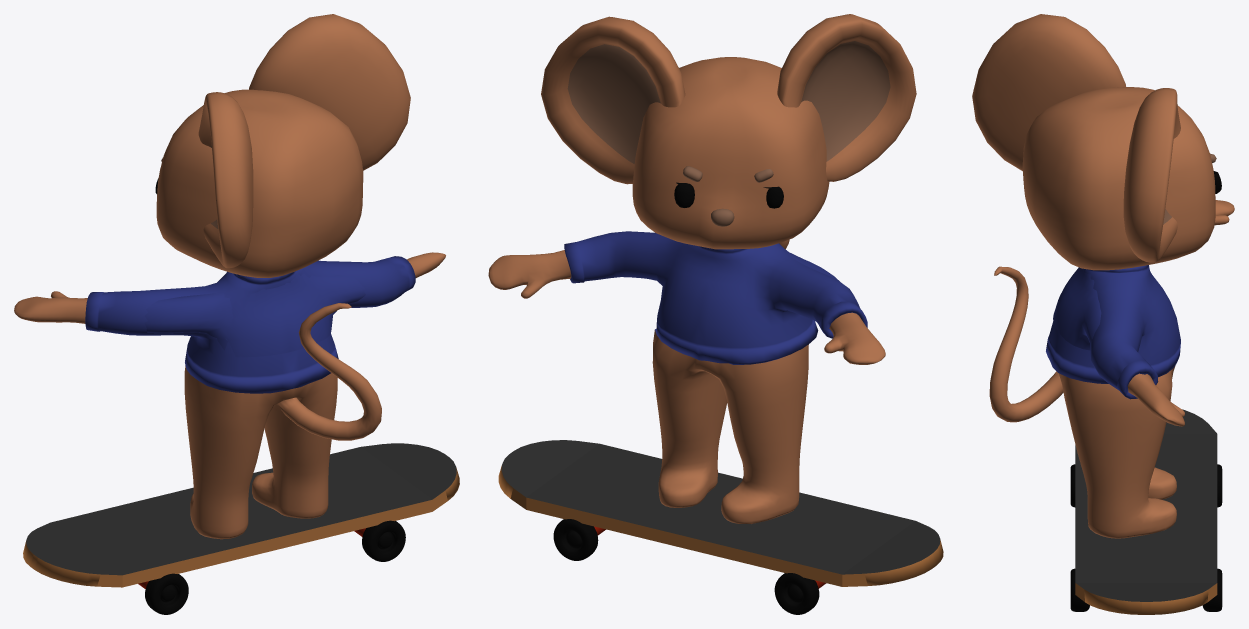
The model's file is snackmouse.glb.
3 views of the same model, side by side, from view 1: azimuth 30°, elevation 25°; view 2: azimuth 150°, elevation 25°; view 3: azimuth 270°, elevation 25° (orthographic). The views are drawn at different scales.
Visible parts, largest first — view 1: body_head.004, skateboard_bord.002, body_head.003, skateboard_wheels.002; view 2: body_head.004, skateboard_bord.002, skateboard_wheels.002; view 3: body_head.004, skateboard_bord.002, body_head.003, skateboard_wheels.002.
Boxes of the visible parts, x1,y1,x2,y2 form: body_head.004: [14, 14, 445, 539]; skateboard_bord.002: [23, 443, 459, 587]; body_head.003: [277, 303, 381, 440]; skateboard_wheels.002: [145, 520, 405, 614]; body_head.004: [488, 14, 916, 523]; skateboard_bord.002: [498, 440, 943, 586]; skateboard_wheels.002: [553, 519, 819, 614]; body_head.004: [972, 14, 1234, 538]; skateboard_bord.002: [1075, 409, 1217, 614]; body_head.003: [989, 266, 1063, 422]; skateboard_wheels.002: [1070, 464, 1222, 611].
Size of the model in its own units: 6.77 by 7.87 by 3.7.
